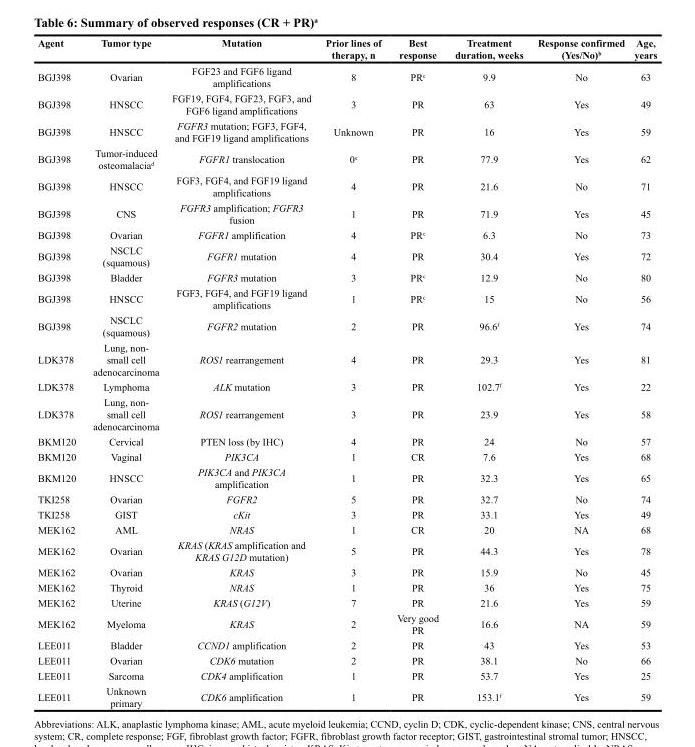table: (37, 36, 656, 708)
table column: (164, 36, 317, 708), (529, 36, 628, 708), (446, 36, 529, 708), (83, 36, 164, 708), (317, 36, 388, 708), (388, 36, 446, 708), (37, 36, 83, 708), (628, 36, 656, 708)
table column header: (37, 36, 656, 62)
table row: (37, 339, 656, 378), (37, 394, 656, 433), (37, 62, 656, 90), (37, 144, 656, 172), (37, 284, 656, 312), (37, 463, 656, 491), (37, 536, 656, 564), (37, 609, 656, 637), (37, 90, 656, 117), (37, 117, 656, 144), (37, 172, 656, 199), (37, 199, 656, 226), (37, 242, 656, 269), (37, 312, 656, 339), (37, 36, 656, 62), (37, 682, 656, 708), (37, 226, 656, 242), (37, 378, 656, 394), (37, 269, 656, 284), (37, 433, 656, 448), (37, 448, 656, 463), (37, 491, 656, 506), (37, 506, 656, 521), (37, 521, 656, 536), (37, 564, 656, 579), (37, 579, 656, 594), (37, 594, 656, 609), (37, 637, 656, 652), (37, 652, 656, 667), (37, 667, 656, 682)
